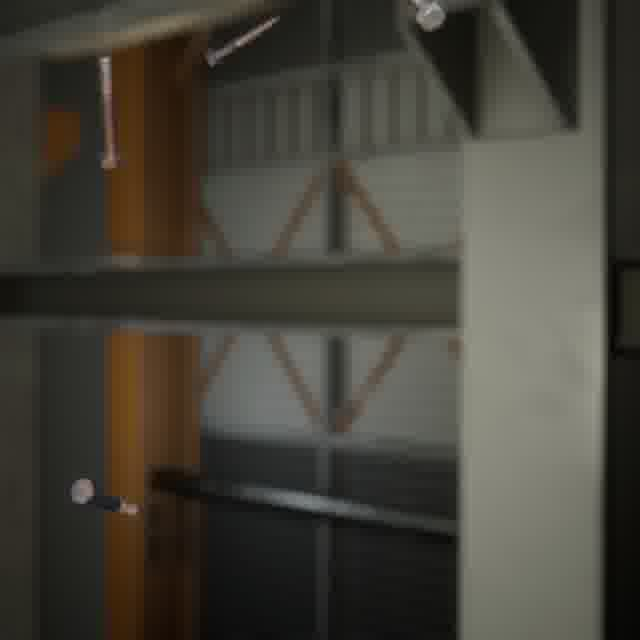bolt: (201, 11, 284, 73), (93, 50, 128, 174), (64, 472, 142, 522), (401, 0, 450, 36)
